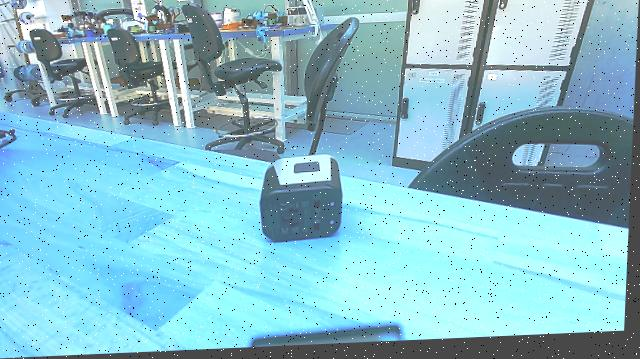adapter: (256, 155, 349, 251)
